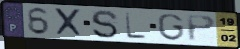6: (26, 6, 51, 36)
G: (156, 12, 186, 42)
L: (123, 11, 149, 41)
P: (184, 14, 218, 44)
S: (90, 9, 120, 40)
X: (52, 7, 85, 38)
